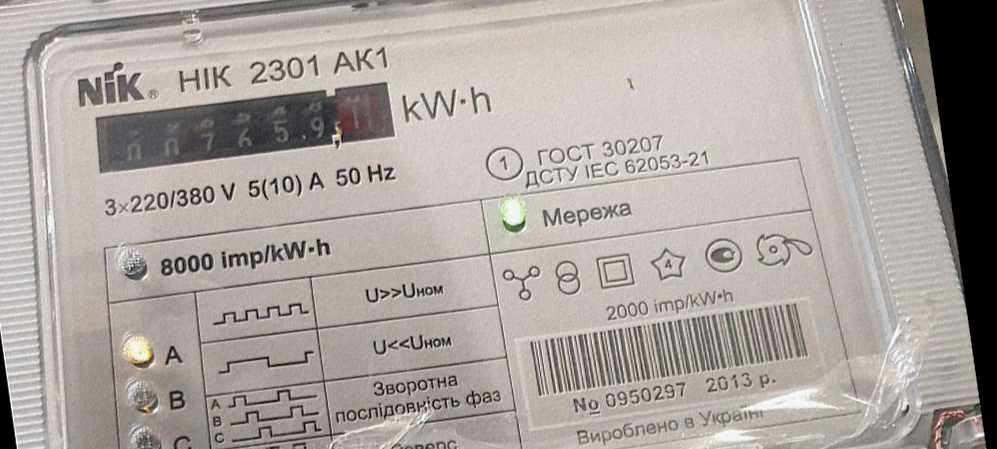0: (122, 137, 144, 166), (160, 133, 182, 160)
1: (346, 100, 364, 134)
5: (267, 115, 293, 145)
6: (232, 123, 254, 150)
7: (196, 129, 219, 156)
9: (305, 112, 327, 141)
screen: (80, 62, 407, 195)
